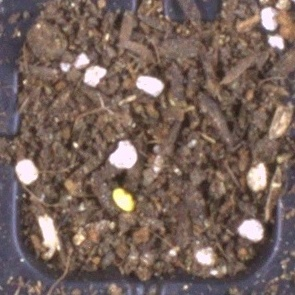chilli seed: (112, 188, 136, 212)
